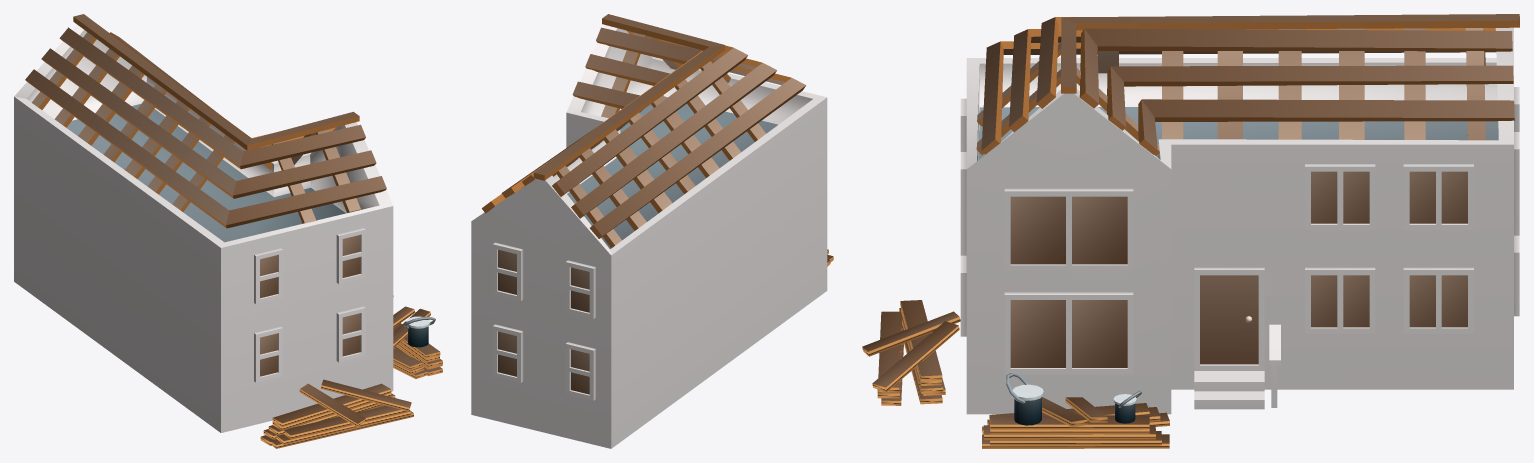
Rendered from Asset_AvenHouseOff.glb.
3 views of the same model, side by side, from view 1: azimuth 30°, elevation 25°; view 2: azimuth 150°, elevation 25°; view 3: azimuth 270°, elevation 25° (orthographic). The views are drawn at different scales.
Parts seen in each view (by area): view 1: Mesh.014; view 2: Mesh.014; view 3: Mesh.014.
Part boxes in pixels (x1=…): Mesh.014: x1=14, y1=14, x2=442, y2=448; Mesh.014: x1=471, y1=14, x2=833, y2=448; Mesh.014: x1=862, y1=14, x2=1519, y2=448.
Size of what is drawn, in the model's own units: 8.19 by 7.78 by 14.12.
1 material, 1 textured.
